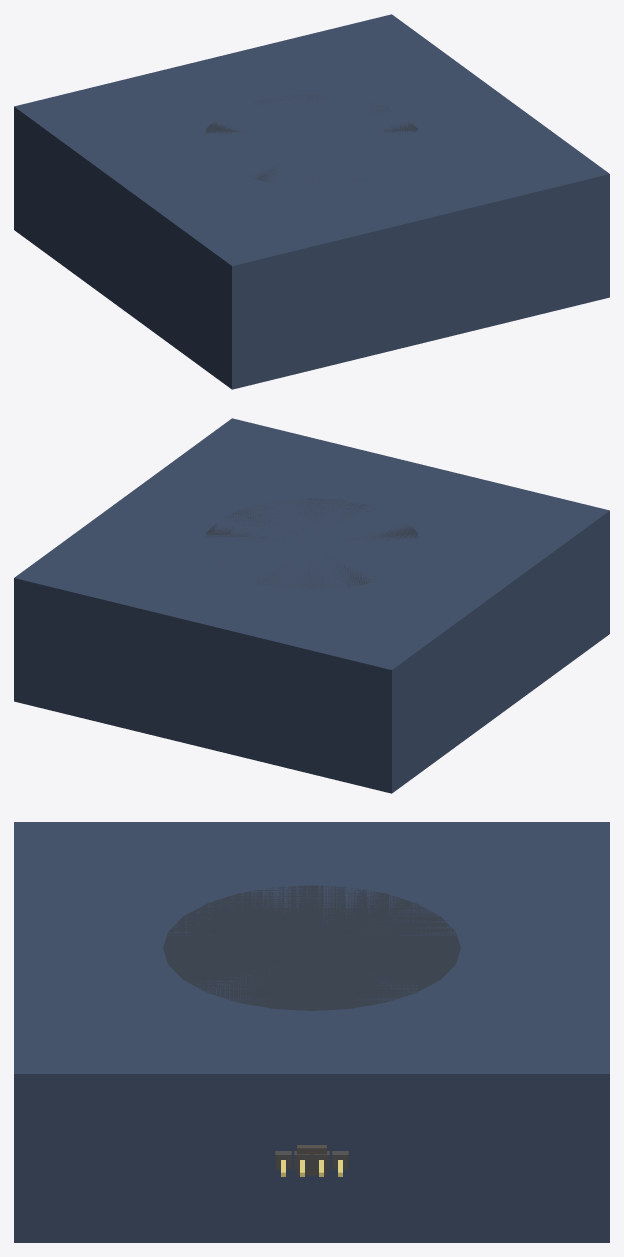
The model's file is fan-12v-4pin-pwm.glb.
3 views of the same model, one above another, from view 1: azimuth 30°, elevation 25°; view 2: azimuth 150°, elevation 25°; view 3: azimuth 270°, elevation 25° (orthographic). The views are drawn at different scales.
Parts seen in each view (by area): view 1: fan-12v-4pin-pwm_mesh; view 2: fan-12v-4pin-pwm_mesh; view 3: fan-12v-4pin-pwm_mesh.
Boxes of the visible parts, x1,y1,x2,y2 form: fan-12v-4pin-pwm_mesh: [14, 14, 609, 389]; fan-12v-4pin-pwm_mesh: [14, 418, 609, 793]; fan-12v-4pin-pwm_mesh: [14, 822, 609, 1242].
Size of the model in its own units: 85.2 by 25 by 80.
